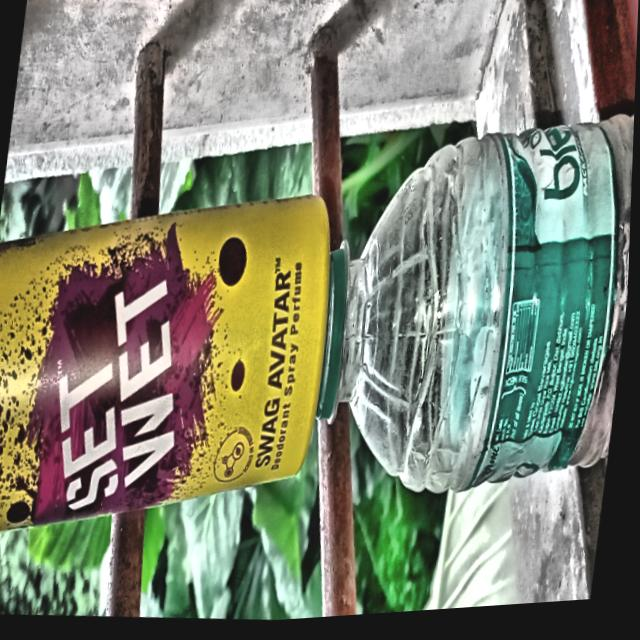plastic: (293, 41, 638, 544)
